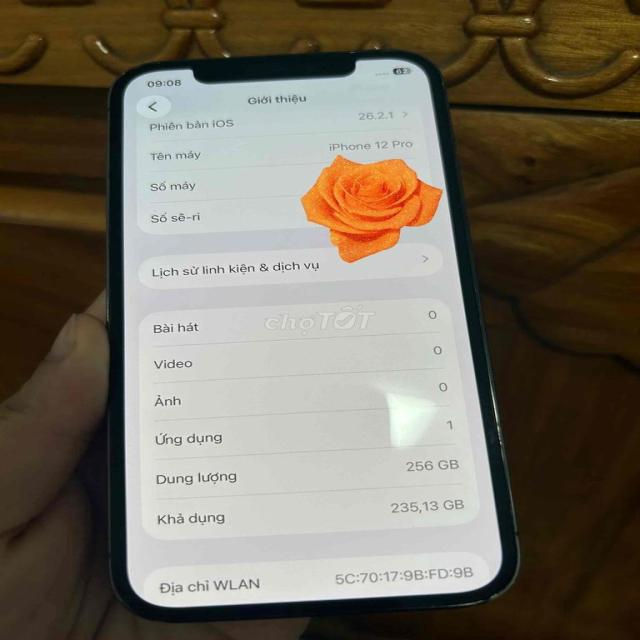gen_12_13: (102, 49, 525, 626)
